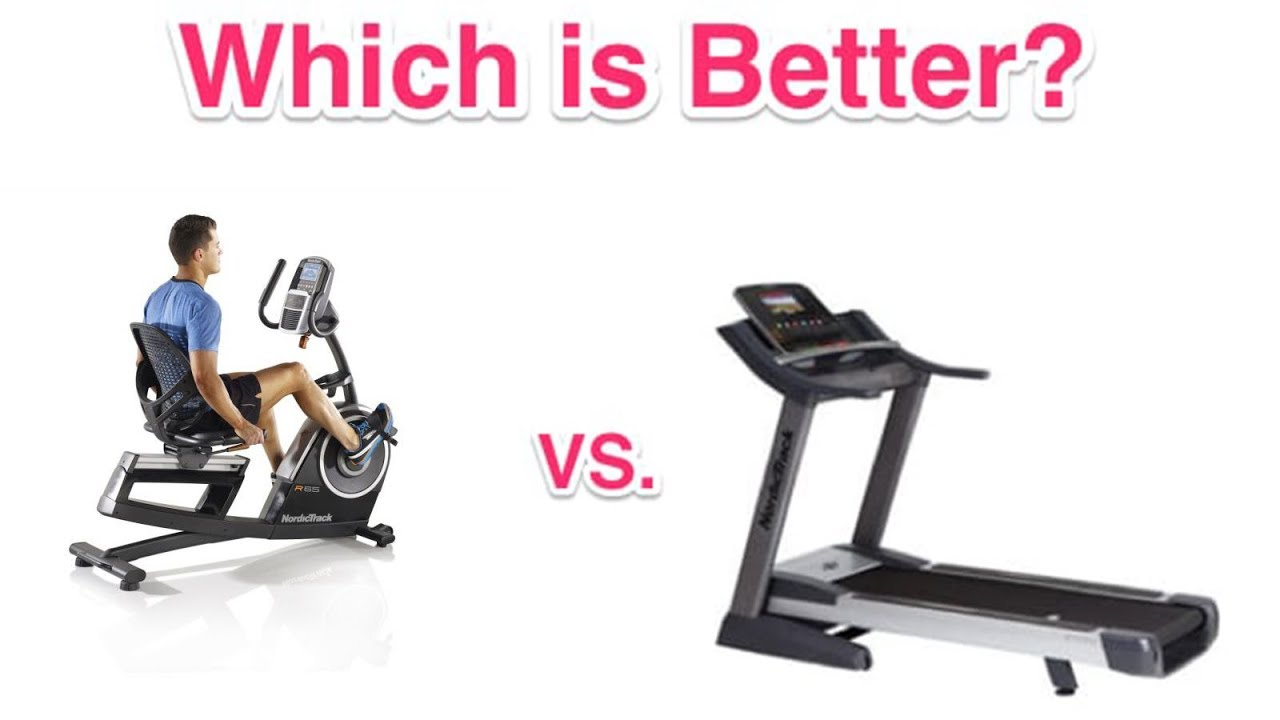gym_bike: (87, 260, 399, 609)
